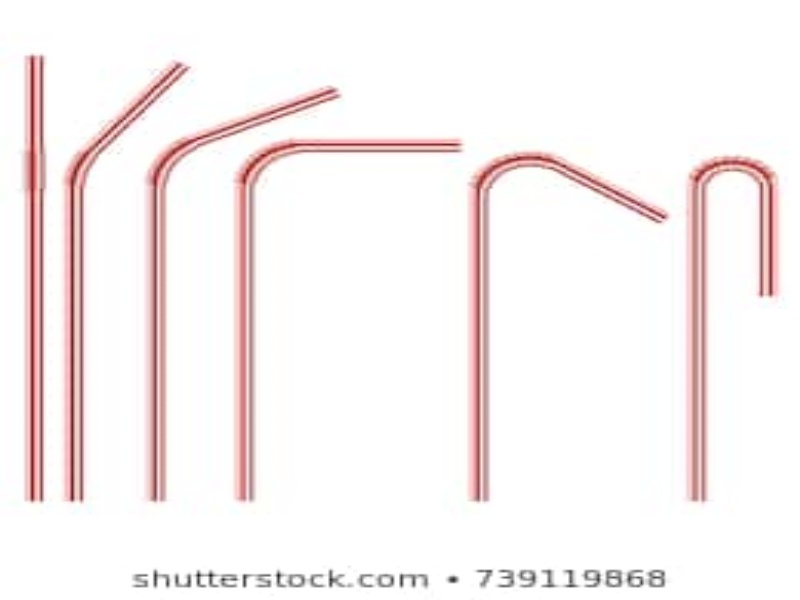straw: (126, 81, 345, 503), (229, 132, 464, 502), (457, 151, 671, 500), (64, 61, 194, 504), (683, 153, 781, 505), (19, 52, 51, 503)
